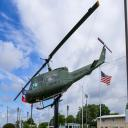helicopter: (23, 1, 114, 111)
